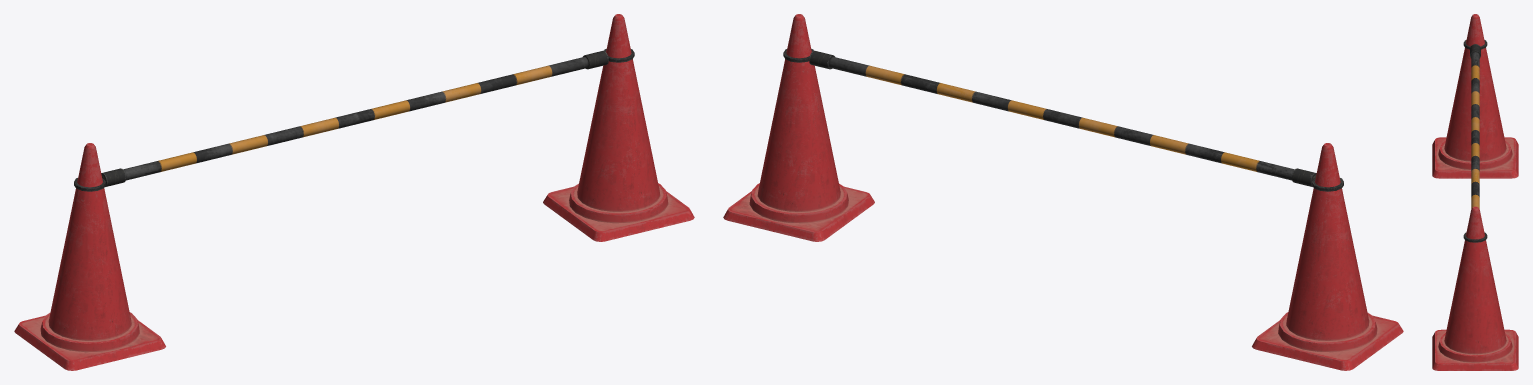
File: roadcone_bar.fbx
The picture shows the model from 3 angles, left to right: view 1: azimuth 30°, elevation 25°; view 2: azimuth 150°, elevation 25°; view 3: azimuth 270°, elevation 25°; orthographic projection. The views are drawn at different scales.
Parts seen in each view (by area): view 1: roadcone_bar; view 2: roadcone_bar; view 3: roadcone_bar.
Part boxes in pixels (x1,y1,x2,y2): roadcone_bar: [14, 14, 694, 370]; roadcone_bar: [723, 14, 1403, 370]; roadcone_bar: [1432, 14, 1518, 370].
Bounding box in the file's own units: 251 × 74 × 40.
Materials: 1 (1 with a texture image).
